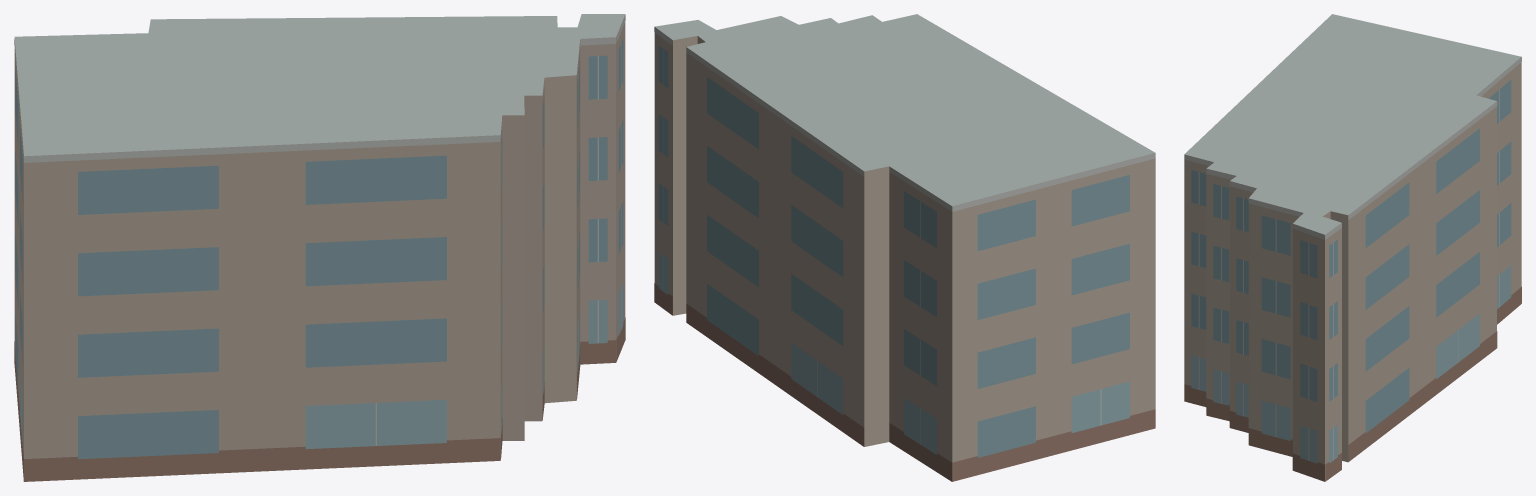
The model's file is survey-upis-32519524.glb.
3 views of the same model, side by side, from view 1: azimuth 30°, elevation 25°; view 2: azimuth 150°, elevation 25°; view 3: azimuth 270°, elevation 25° (orthographic). The views are drawn at different scales.
Visible parts, largest first — view 1: survey-upis-32519524.tmp; view 2: survey-upis-32519524.tmp; view 3: survey-upis-32519524.tmp.
Boxes of the visible parts, box(x1,y1,x2,y2) form: survey-upis-32519524.tmp: box(14, 14, 625, 481); survey-upis-32519524.tmp: box(654, 14, 1155, 481); survey-upis-32519524.tmp: box(1184, 14, 1521, 481).
Size of the model in its own units: 22.83 by 11.9 by 14.74.
